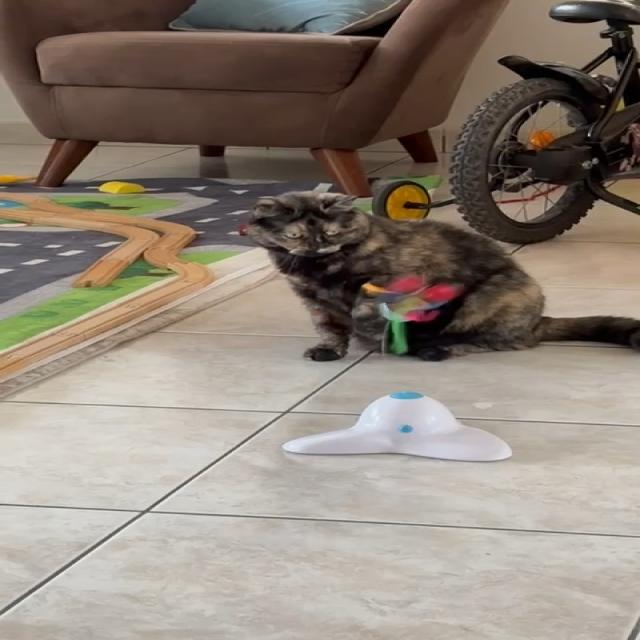authorized: (241, 190, 639, 362)
